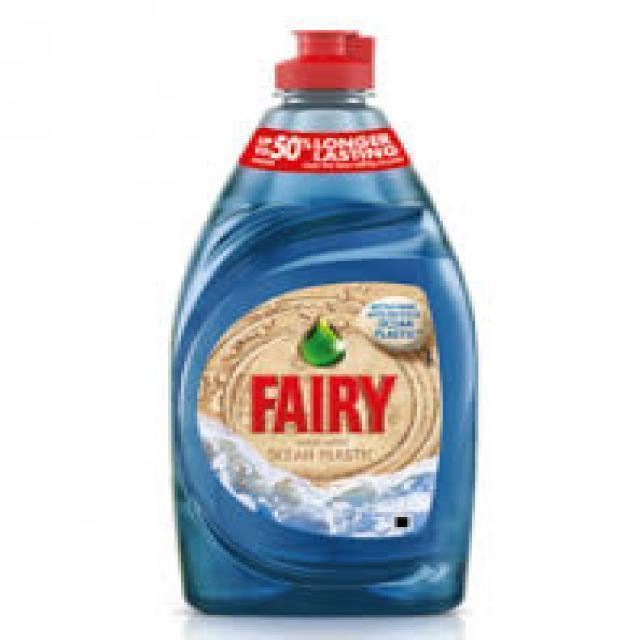Plastic: (166, 27, 480, 610)
